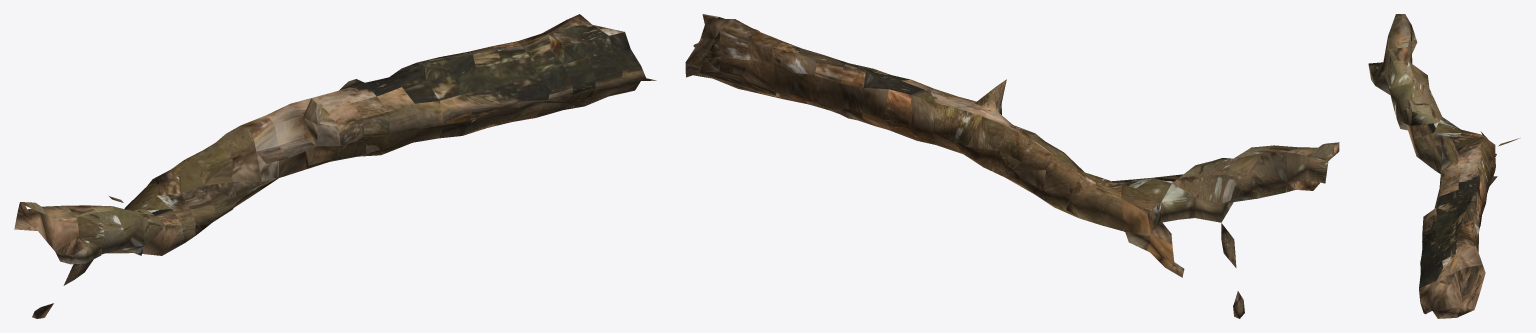
Rendered from log_dead.glb.
The picture shows the model from 3 angles, left to right: view 1: azimuth 30°, elevation 25°; view 2: azimuth 150°, elevation 25°; view 3: azimuth 270°, elevation 25°; orthographic projection. The views are drawn at different scales.
Visible parts, largest first — view 1: log_dead; view 2: log_dead; view 3: log_dead.
Part boxes in pixels (left/top/right/bottom): log_dead: left=14, top=14, right=656, bottom=318; log_dead: left=685, top=14, right=1339, bottom=318; log_dead: left=1368, top=14, right=1519, bottom=318.
Bounding box in the file's own units: 4 × 1.02 × 0.9886.
1 material, 1 textured.
